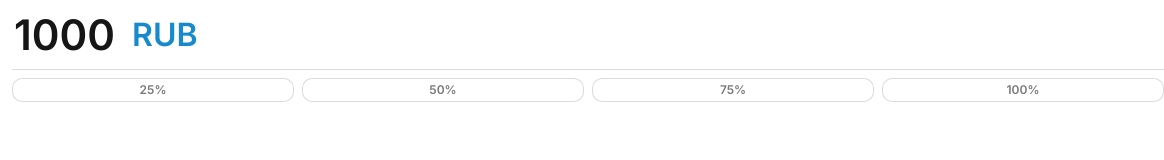
CurrencyInputBlock › should show error if input is empty
Step 1. Clear the number field showing "1000" → (68, 34), box x1=12 y1=8 x2=124 y2=61
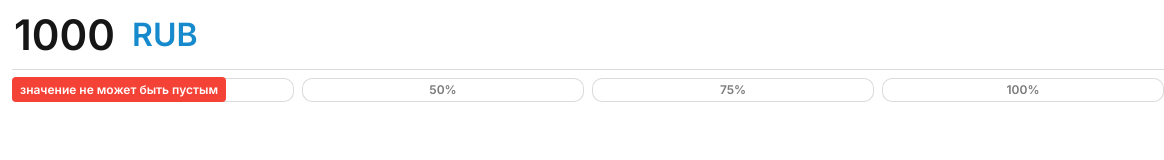
Check: the text "значение не может быть пустым" is shown, box x1=12 y1=77 x2=226 y2=102
